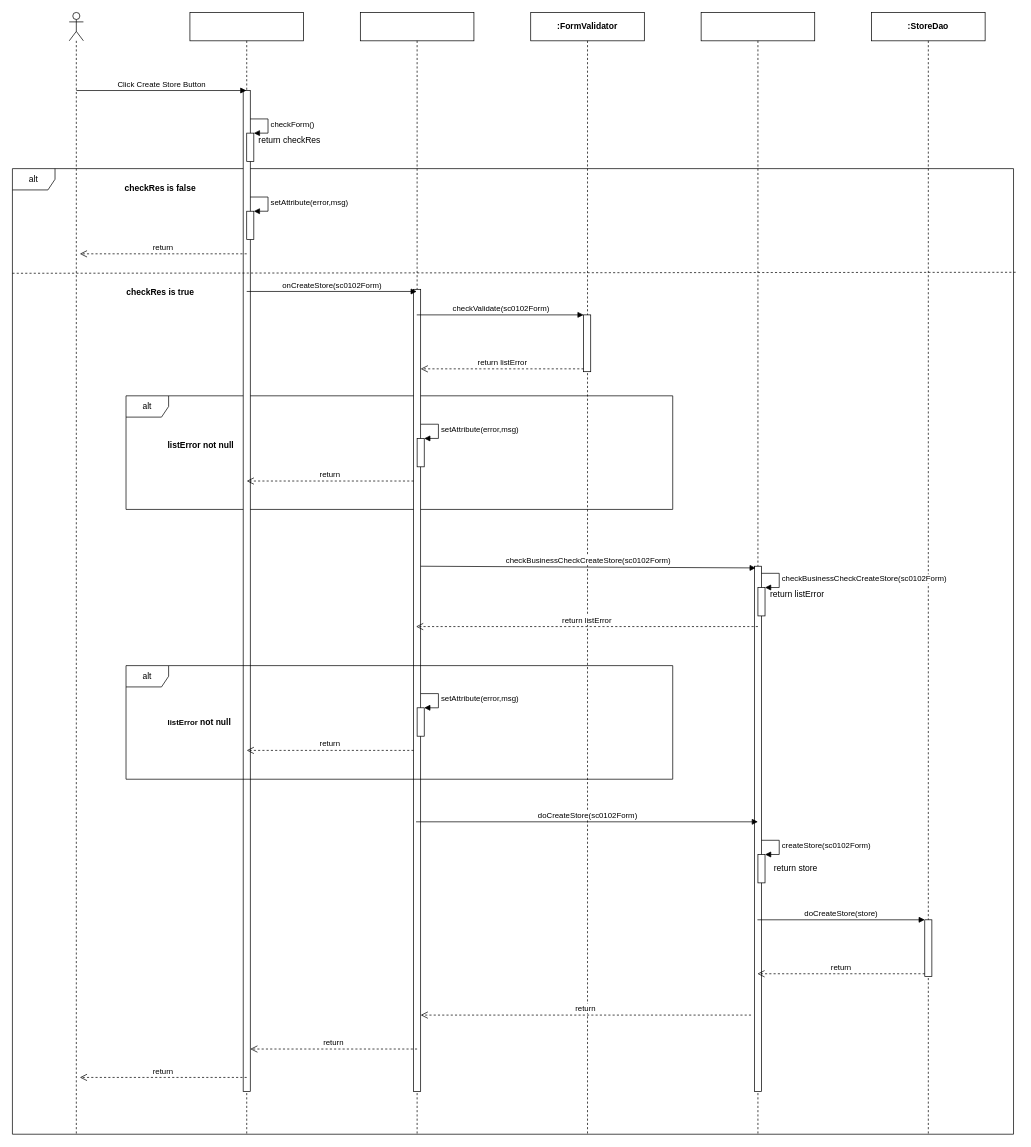
Some shapes in this 1031 by 1147 pixel diagram are drawn without their labels. Each missing label, with the box of its shape:
: SC0102 Service: (700, 12, 815, 1134)
:SC0102Controller: (360, 12, 474, 1134)
:SC0102Page: (189, 12, 304, 1134)
